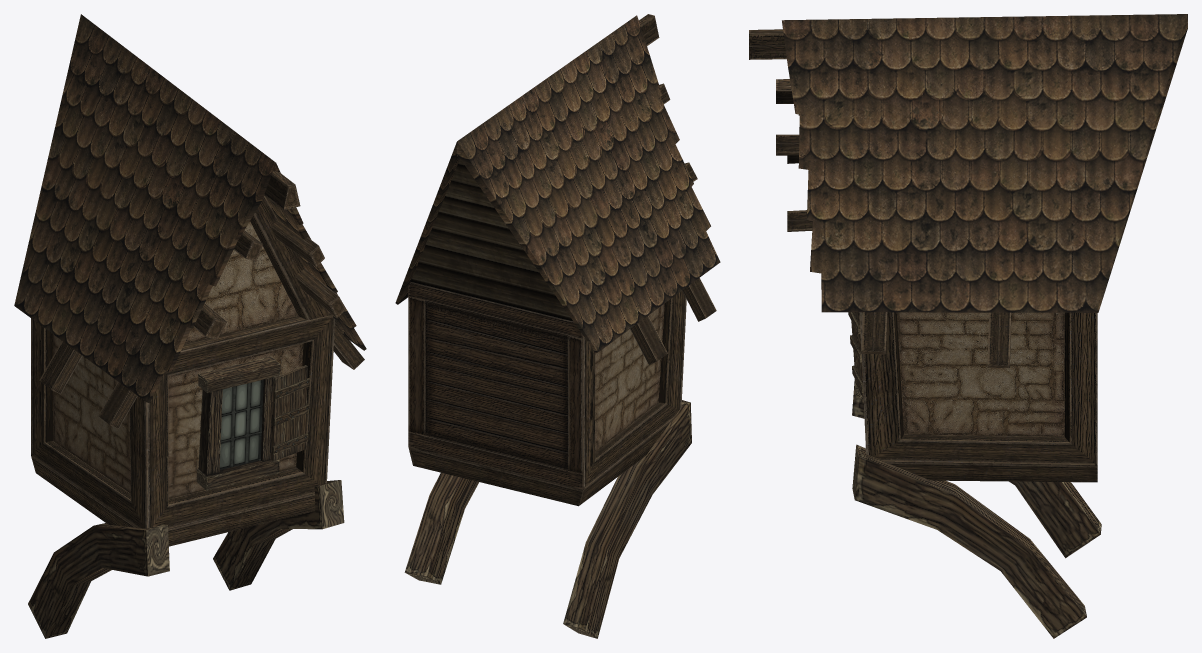
Rendered from Window_b07.fbx.
The picture shows the model from 3 angles, left to right: view 1: azimuth 30°, elevation 25°; view 2: azimuth 150°, elevation 25°; view 3: azimuth 270°, elevation 25°; orthographic projection. The views are drawn at different scales.
Visible parts, largest first — view 1: Window_b07; view 2: Window_b07; view 3: Window_b07.
Boxes of the visible parts, left/top/right/bottom form: Window_b07: left=14, top=14, right=366, bottom=638; Window_b07: left=395, top=14, right=720, bottom=638; Window_b07: left=749, top=14, right=1187, bottom=638.
Bounding box in the file's own units: 3.76 × 7.68 × 5.25.
